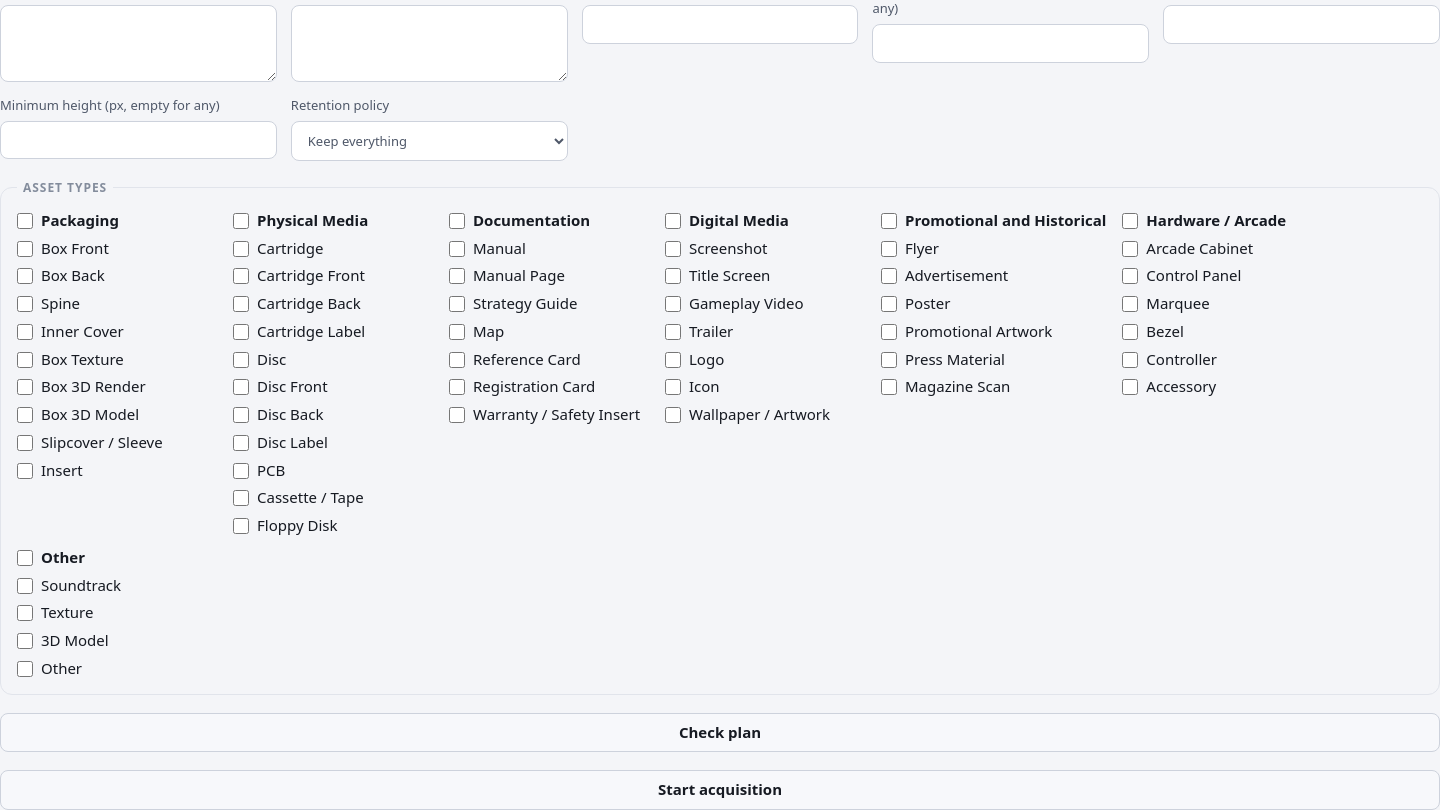
Scenario: AcquireView › forgets a checked plan once the request changes
(page scrolled)
Click the button "Check plan": (720, 733) [0,713,1439,752]
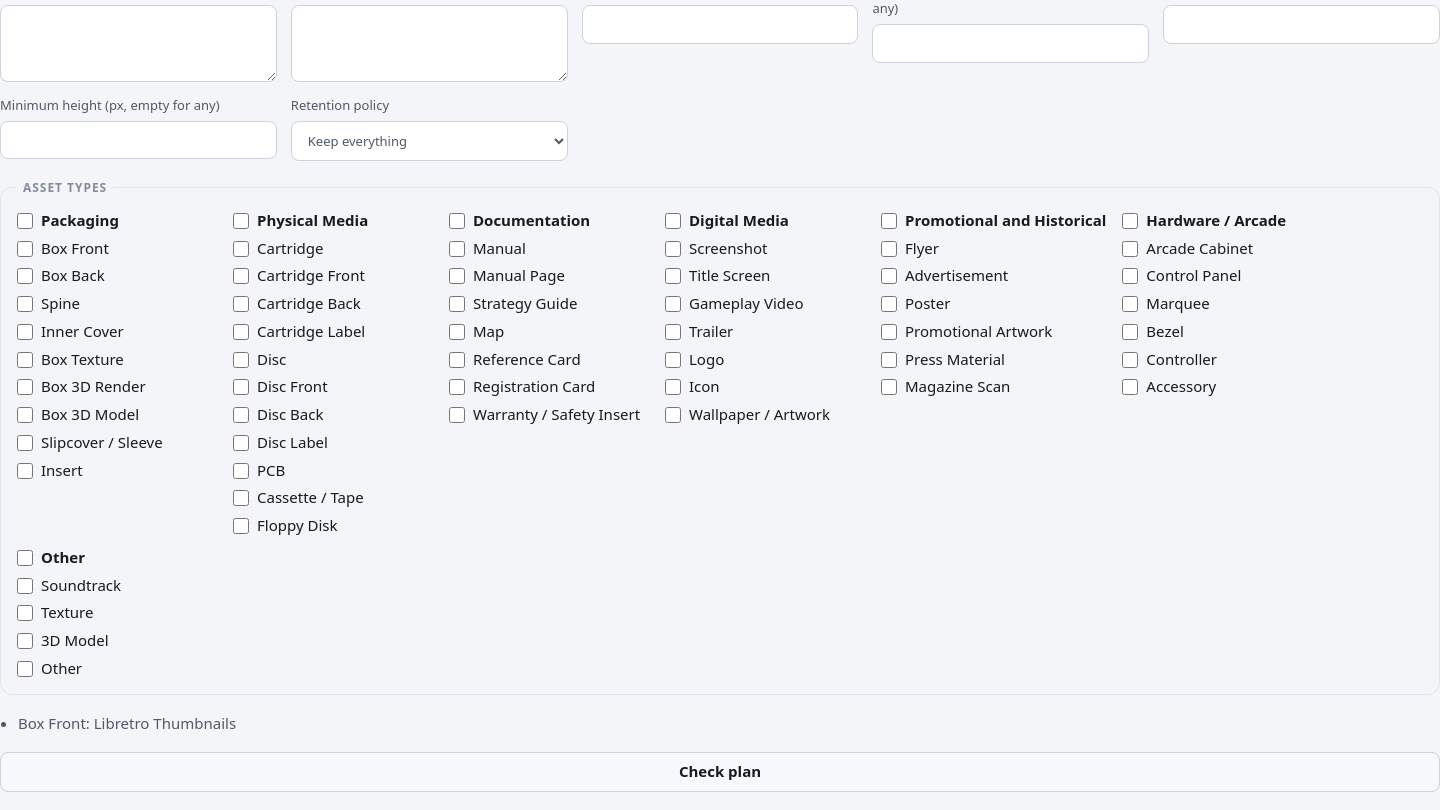
Now the list item "Box Front: Libretro Thumbnails" is shown, box [18,713,236,733]
Click the checkbox labelled "Screenshot": (673, 249) [665,241,681,257]
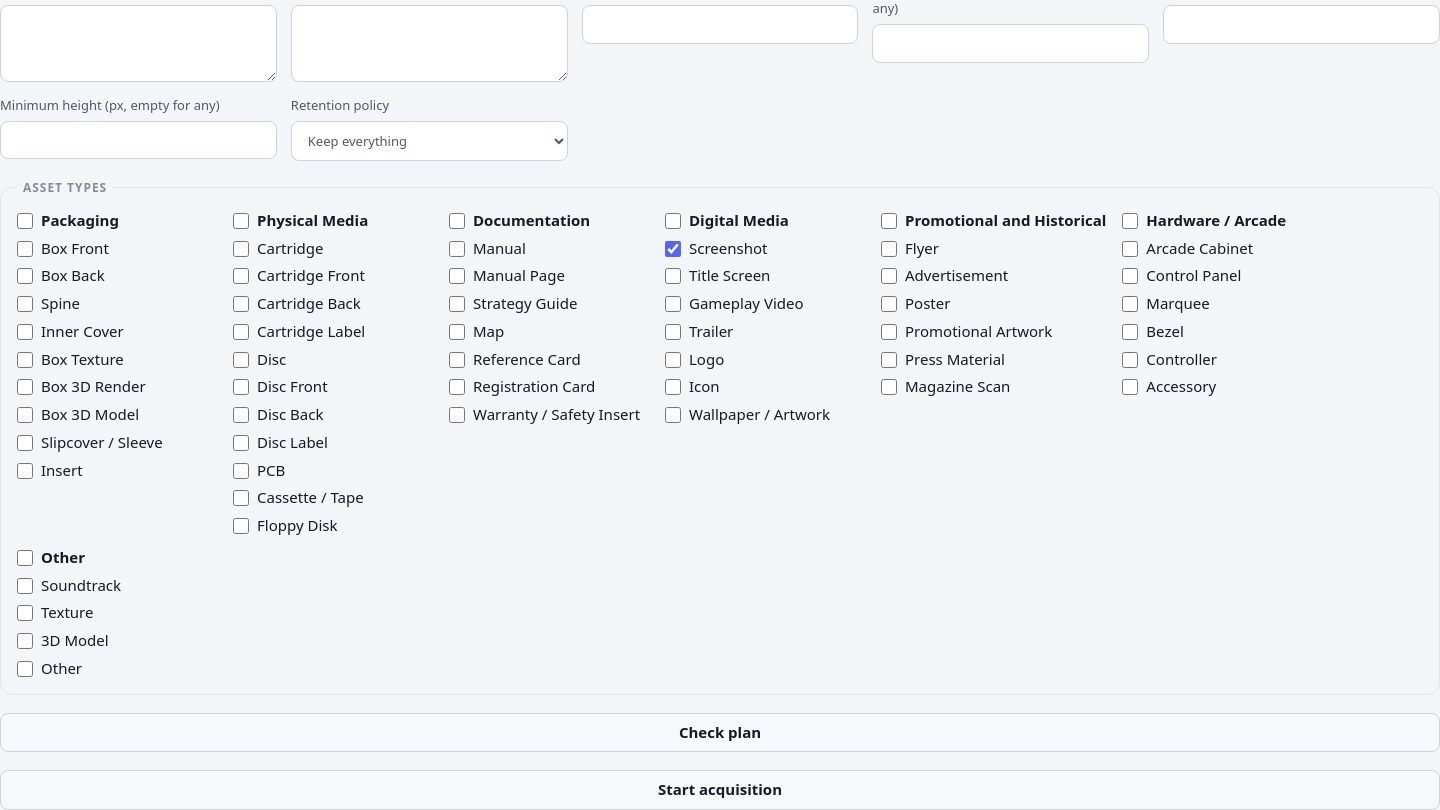
Now the list item "Box Front: Libretro Thumbnails" is gone
